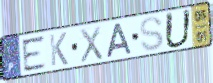A: (105, 22, 134, 59)
E: (20, 34, 48, 74)
K: (49, 31, 70, 68)
S: (139, 16, 165, 53)
U: (164, 7, 193, 50)
X: (78, 24, 104, 65)
